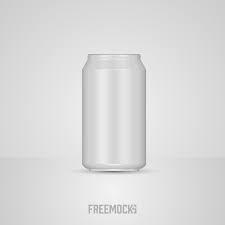Aluminum can: (72, 39, 156, 182)
